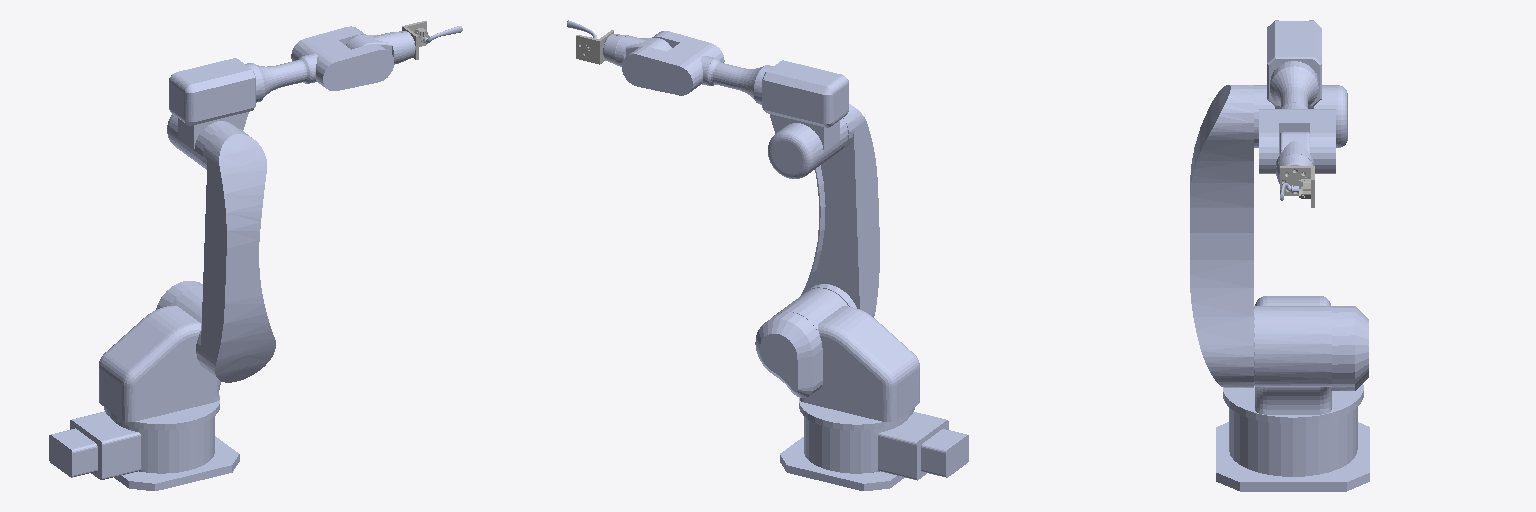
URDF robot description (resetrobotnewsm):
<?xml version="1.0" encoding="utf-8"?>
<!-- This URDF was automatically created by SolidWorks to URDF Exporter! Originally created by [author] ([email redacted]) 
     Commit Version: 1.4.2-27-gc3b3358  Build Version: 1.4.6891.25992
     For more information, please see http://wiki.ros.org/sw_urdf_exporter -->
<robot
  name="resetrobotnewsm">
  <link
    name="base_link">
    <inertial>
      <origin
        xyz="-0.048537 7.2262E-08 0.084952"
        rpy="0 0 0" />
      <mass
        value="1E-05" />
      <inertia
        ixx="10"
        ixy="0"
        ixz="0"
        iyy="10"
        iyz="0"
        izz="10" />
    </inertial>
    <visual>
      <origin
        xyz="0 0 0"
        rpy="0 0 0" />
      <geometry>
        <mesh
          filename="package://resetrobotnewsm/meshes/base_link.STL" />
      </geometry>
      <material
        name="">
        <color
          rgba="0.79216 0.81961 0.93333 1" />
      </material>
    </visual>
    <collision>
      <origin
        xyz="0 0 0"
        rpy="0 0 0" />
      <geometry>
        <mesh
          filename="package://resetrobotnewsm/meshes/base_link.STL" />
      </geometry>
    </collision>
  </link>
  <link
    name="link_1">
    <inertial>
      <origin
        xyz="0.058504 0.018758 0.15092"
        rpy="0 0 0" />
      <mass
        value="1E-05" />
      <inertia
        ixx="10"
        ixy="0"
        ixz="0"
        iyy="10"
        iyz="0"
        izz="10" />
    </inertial>
    <visual>
      <origin
        xyz="0 0 0"
        rpy="0 0 0" />
      <geometry>
        <mesh
          filename="package://resetrobotnewsm/meshes/link_1.STL" />
      </geometry>
      <material
        name="">
        <color
          rgba="0.79216 0.81961 0.93333 1" />
      </material>
    </visual>
    <collision>
      <origin
        xyz="0 0 0"
        rpy="0 0 0" />
      <geometry>
        <mesh
          filename="package://resetrobotnewsm/meshes/link_1.STL" />
      </geometry>
    </collision>
  </link>
  <joint
    name="joint_1"
    type="revolute">
    <origin
      xyz="0 0 0.181"
      rpy="0 0 0" />
    <parent
      link="base_link" />
    <child
      link="link_1" />
    <axis
      xyz="0 0 1" />
    <limit
      lower="-2.8798"
      upper="2.8798"
      effort="0"
      velocity="0" />
  </joint>
  <link
    name="link_2">
    <inertial>
      <origin
        xyz="-0.016063 -0.28254 -0.079384"
        rpy="0 0 0" />
      <mass
        value="1E-05" />
      <inertia
        ixx="10"
        ixy="0"
        ixz="0"
        iyy="10"
        iyz="0"
        izz="10" />
    </inertial>
    <visual>
      <origin
        xyz="0 0 0"
        rpy="0 0 0" />
      <geometry>
        <mesh
          filename="package://resetrobotnewsm/meshes/link_2.STL" />
      </geometry>
      <material
        name="">
        <color
          rgba="0.79216 0.81961 0.93333 1" />
      </material>
    </visual>
    <collision>
      <origin
        xyz="0 0 0"
        rpy="0 0 0" />
      <geometry>
        <mesh
          filename="package://resetrobotnewsm/meshes/link_2.STL" />
      </geometry>
    </collision>
  </link>
  <joint
    name="joint_2"
    type="revolute">
    <origin
      xyz="0.16933 -0.1005 0.21703"
      rpy="-1.5708 0 0" />
    <parent
      link="link_1" />
    <child
      link="link_2" />
    <axis
      xyz="0 0 1" />
    <limit
      lower="-1.6581"
      upper="1.2217"
      effort="0"
      velocity="0" />
  </joint>
  <link
    name="link_3">
    <inertial>
      <origin
        xyz="0.0062446 -0.075744 0.11093"
        rpy="0 0 0" />
      <mass
        value="1E-05" />
      <inertia
        ixx="10"
        ixy="0"
        ixz="0"
        iyy="10"
        iyz="0"
        izz="10" />
    </inertial>
    <visual>
      <origin
        xyz="0 0 0"
        rpy="0 0 0" />
      <geometry>
        <mesh
          filename="package://resetrobotnewsm/meshes/link_3.STL" />
      </geometry>
      <material
        name="">
        <color
          rgba="0.79216 0.81961 0.93333 1" />
      </material>
    </visual>
    <collision>
      <origin
        xyz="0 0 0"
        rpy="0 0 0" />
      <geometry>
        <mesh
          filename="package://resetrobotnewsm/meshes/link_3.STL" />
      </geometry>
    </collision>
  </link>
  <joint
    name="joint_3"
    type="revolute">
    <origin
      xyz="0 -0.65 0"
      rpy="0 0 0" />
    <parent
      link="link_2" />
    <child
      link="link_3" />
    <axis
      xyz="1 0 0" />
    <limit
      lower="-1.4835"
      upper="1.6581"
      effort="0"
      velocity="0" />
  </joint>
  <link
    name="link_4">
    <inertial>
      <origin
        xyz="1.0311E-07 -0.0077856 0.27219"
        rpy="0 0 0" />
      <mass
        value="1E-05" />
      <inertia
        ixx="10"
        ixy="0"
        ixz="0"
        iyy="10"
        iyz="0"
        izz="10" />
    </inertial>
    <visual>
      <origin
        xyz="0 0 0"
        rpy="0 0 0" />
      <geometry>
        <mesh
          filename="package://resetrobotnewsm/meshes/link_4.STL" />
      </geometry>
      <material
        name="">
        <color
          rgba="0.79216 0.81961 0.93333 1" />
      </material>
    </visual>
    <collision>
      <origin
        xyz="0 0 0"
        rpy="0 0 0" />
      <geometry>
        <mesh
          filename="package://resetrobotnewsm/meshes/link_4.STL" />
      </geometry>
    </collision>
  </link>
  <joint
    name="joint_4"
    type="revolute">
    <origin
      xyz="0.131 -0.15574 0.1035"
      rpy="-1.5708 0 -1.5708" />
    <parent
      link="link_3" />
    <child
      link="link_4" />
    <axis
      xyz="0 0 1" />
    <limit
      lower="-3.1416"
      upper="3.1416"
      effort="0"
      velocity="0" />
  </joint>
  <link
    name="link_5">
    <inertial>
      <origin
        xyz="-5.7757E-06 0.030984 9.9035E-10"
        rpy="0 0 0" />
      <mass
        value="1E-05" />
      <inertia
        ixx="10"
        ixy="0"
        ixz="0"
        iyy="10"
        iyz="0"
        izz="10" />
    </inertial>
    <visual>
      <origin
        xyz="0 0 0"
        rpy="0 0 0" />
      <geometry>
        <mesh
          filename="package://resetrobotnewsm/meshes/link_5.STL" />
      </geometry>
      <material
        name="">
        <color
          rgba="0.79216 0.81961 0.93333 1" />
      </material>
    </visual>
    <collision>
      <origin
        xyz="0 0 0"
        rpy="0 0 0" />
      <geometry>
        <mesh
          filename="package://resetrobotnewsm/meshes/link_5.STL" />
      </geometry>
    </collision>
  </link>
  <joint
    name="joint_5"
    type="revolute">
    <origin
      xyz="0 -0.002 0.424"
      rpy="1.5708 0 0" />
    <parent
      link="link_4" />
    <child
      link="link_5" />
    <axis
      xyz="0 0 1" />
    <limit
      lower="-2.0071"
      upper="2.0071"
      effort="0"
      velocity="0" />
  </joint>
  <link
    name="link_6">
    <inertial>
      <origin
        xyz="-2.026E-05 6.4965E-16 0.023779"
        rpy="0 0 0" />
      <mass
        value="1E-05" />
      <inertia
        ixx="10"
        ixy="0"
        ixz="0"
        iyy="10"
        iyz="0"
        izz="10" />
    </inertial>
    <visual>
      <origin
        xyz="0 0 0"
        rpy="0 0 0" />
      <geometry>
        <mesh
          filename="package://resetrobotnewsm/meshes/link_6.STL" />
      </geometry>
      <material
        name="">
        <color
          rgba="0.79216 0.81961 0.93333 1" />
      </material>
    </visual>
    <collision>
      <origin
        xyz="0 0 0"
        rpy="0 0 0" />
      <geometry>
        <mesh
          filename="package://resetrobotnewsm/meshes/link_6.STL" />
      </geometry>
    </collision>
  </link>
  <joint
    name="joint_6"
    type="revolute">
    <origin
      xyz="0 0.11 0"
      rpy="-1.5708 0 0" />
    <parent
      link="link_5" />
    <child
      link="link_6" />
    <axis
      xyz="0 0 1" />
    <limit
      lower="-6.2832"
      upper="6.2832"
      effort="0"
      velocity="0" />
  </joint>
  <link
    name="last_link">
    <inertial>
      <origin
        xyz="0.00020414 -0.025603 0.032958"
        rpy="0 0 0" />
      <mass
        value="1E-05" />
      <inertia
        ixx="10"
        ixy="0"
        ixz="0"
        iyy="10"
        iyz="0"
        izz="10" />
    </inertial>
    <visual>
      <origin
        xyz="0 0 0"
        rpy="0 0 0" />
      <geometry>
        <mesh
          filename="package://resetrobotnewsm/meshes/last_link.STL" />
      </geometry>
      <material
        name="">
        <color
          rgba="0.75294 0.75294 0.75294 1" />
      </material>
    </visual>
    <collision>
      <origin
        xyz="0 0 0"
        rpy="0 0 0" />
      <geometry>
        <mesh
          filename="package://resetrobotnewsm/meshes/last_link.STL" />
      </geometry>
    </collision>
  </link>
  <joint
    name="last_joint"
    type="fixed">
    <origin
      xyz="0 0 0.054"
      rpy="0 0 0" />
    <parent
      link="link_6" />
    <child
      link="last_link" />
    <axis
      xyz="0 0 0" />
    <limit
      lower="0"
      upper="0"
      effort="0"
      velocity="0" />
  </joint>
  <link
    name="metal_line">
    <inertial>
      <origin
        xyz="0.019331 -0.048862 0.035558"
        rpy="0 0 0" />
      <mass
        value="1E-05" />
      <inertia
        ixx="10"
        ixy="0"
        ixz="0"
        iyy="10"
        iyz="0"
        izz="10" />
    </inertial>
    <visual>
      <origin
        xyz="0 0 0"
        rpy="0 0 0" />
      <geometry>
        <mesh
          filename="package://resetrobotnewsm/meshes/metal_line.STL" />
      </geometry>
      <material
        name="">
        <color
          rgba="0.79216 0.81961 0.93333 1" />
      </material>
    </visual>
    <collision>
      <origin
        xyz="0 0 0"
        rpy="0 0 0" />
      <geometry>
        <mesh
          filename="package://resetrobotnewsm/meshes/metal_line.STL" />
      </geometry>
    </collision>
  </link>
  <joint
    name="metal_joint"
    type="fixed">
    <origin
      xyz="0.00069031 -0.0089924 0.056361"
      rpy="-1.5708 0 0" />
    <parent
      link="last_link" />
    <child
      link="metal_line" />
    <axis
      xyz="0 0 0" />
    <safety_controller
      k_velocity="0" />
  </joint>
</robot>

--- Facts derived from the render (not from the file) ---
The picture shows the robot from 3 angles, left to right: view 1: azimuth 30°, elevation 25°; view 2: azimuth 150°, elevation 25°; view 3: azimuth 270°, elevation 25°; orthographic projection.
Model resetrobotnewsm with 9 links and 8 joints (6 revolute, 2 fixed), rooted at base_link, posed all joints at 0.
Links seen in each view (by area): view 1: link_2, link_1, base_link, link_3, link_4, link_5; view 2: link_1, link_2, base_link, link_3, link_4, link_5, last_link; view 3: link_2, link_1, base_link, link_4, link_3, last_link, link_5.
Boxes of the visible links, bbox=[...] form: link_2: bbox=[196, 127, 275, 382]; link_1: bbox=[99, 281, 221, 429]; base_link: bbox=[49, 411, 239, 490]; link_3: bbox=[167, 58, 255, 169]; link_4: bbox=[245, 26, 393, 102]; link_5: bbox=[346, 32, 402, 64]; link_1: bbox=[755, 288, 919, 430]; link_2: bbox=[801, 104, 879, 317]; base_link: bbox=[780, 412, 968, 490]; link_3: bbox=[762, 60, 848, 178]; link_4: bbox=[622, 31, 772, 104]; link_5: bbox=[615, 35, 671, 66]; last_link: bbox=[576, 30, 613, 64]; link_2: bbox=[1190, 85, 1253, 387]; link_1: bbox=[1223, 296, 1368, 424]; base_link: bbox=[1216, 407, 1369, 491]; link_4: bbox=[1259, 61, 1335, 173]; link_3: bbox=[1254, 20, 1347, 147]; last_link: bbox=[1280, 166, 1314, 207]; link_5: bbox=[1276, 132, 1314, 166].
Size in the robot's own frame: 1.41 by 0.463 by 1.28 metres.
9 mesh visuals loaded from 9 distinct referenced files (9 binary STL).